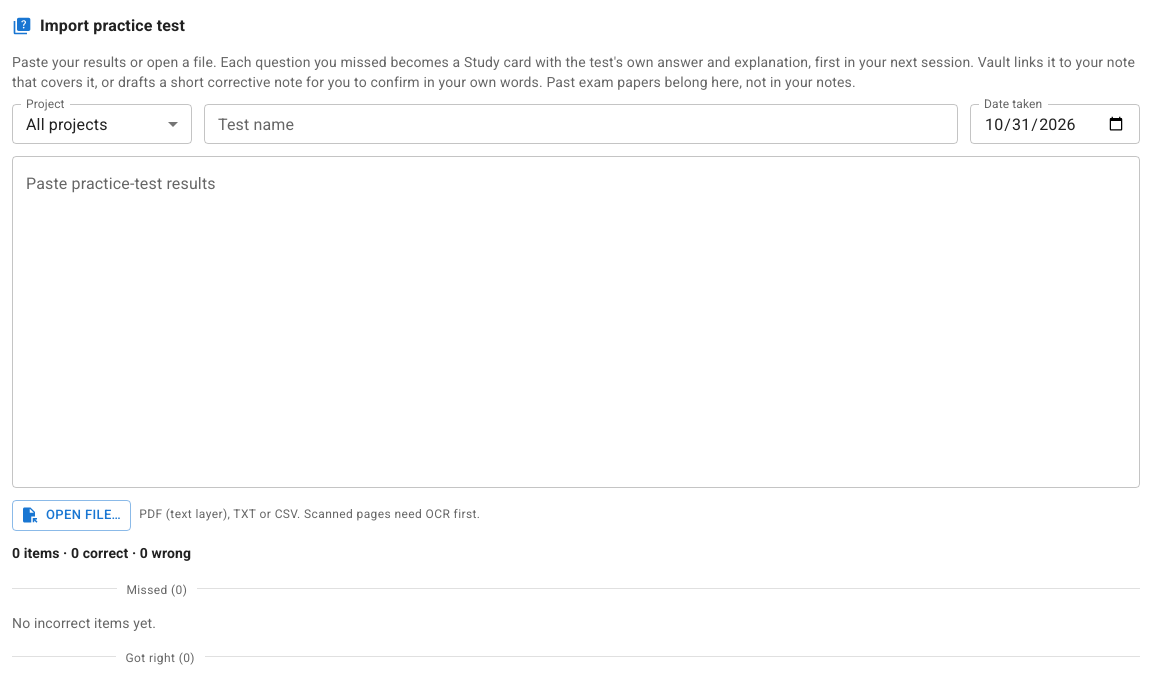
Test: TestToNotesView › opens a file into the paste box
Click the button "Open file…": (72, 515) [12,500,131,531]
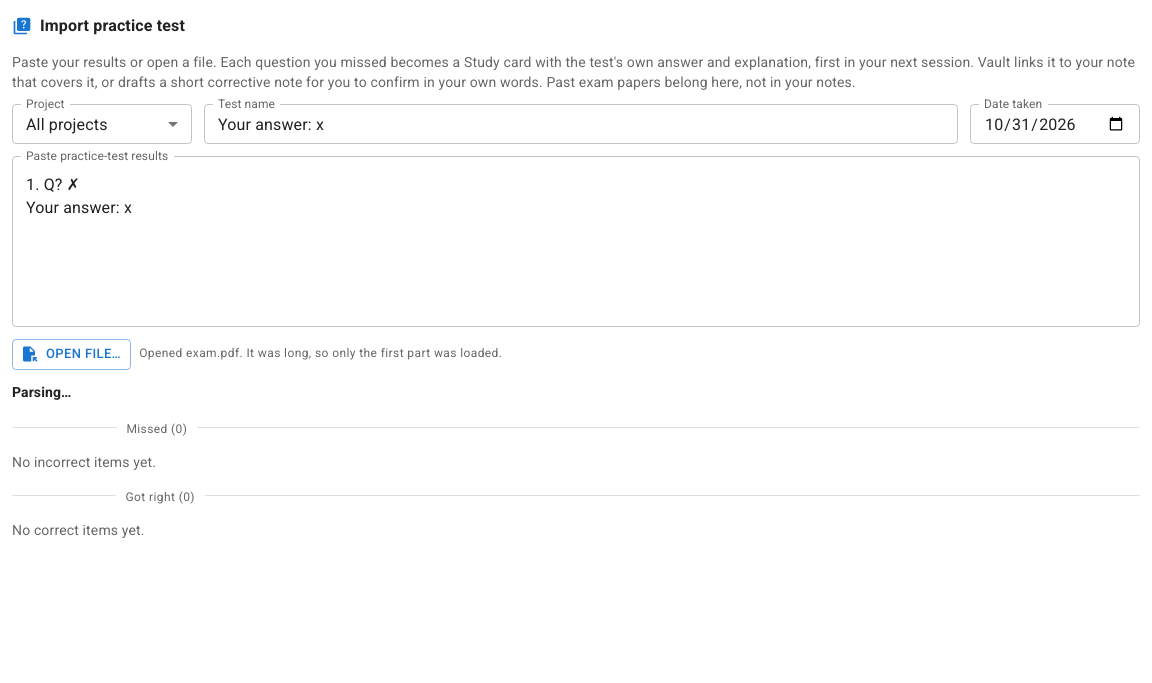
Expected: the text "Opened exam.pdf. It was long" is shown, [139,346,502,360]
Click the button "Open file…": (72, 354) [12,339,131,370]
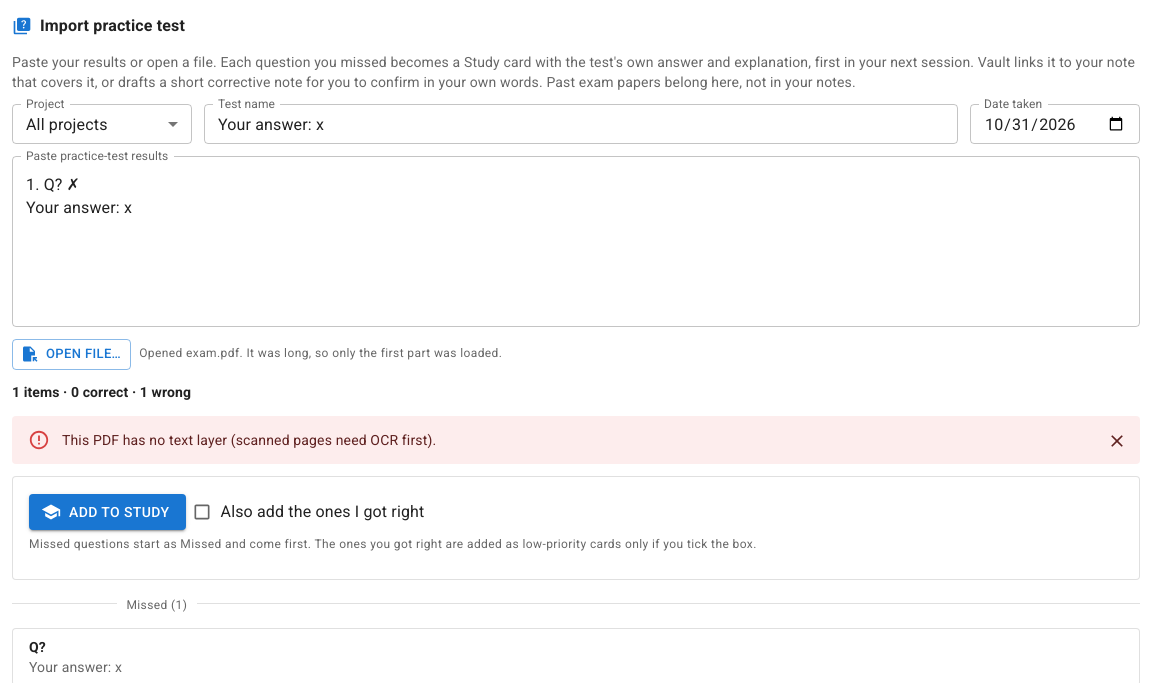
Expected: the text "This PDF has no text layer (scanned pages need OCR first)." is shown, [62,432,436,448]
